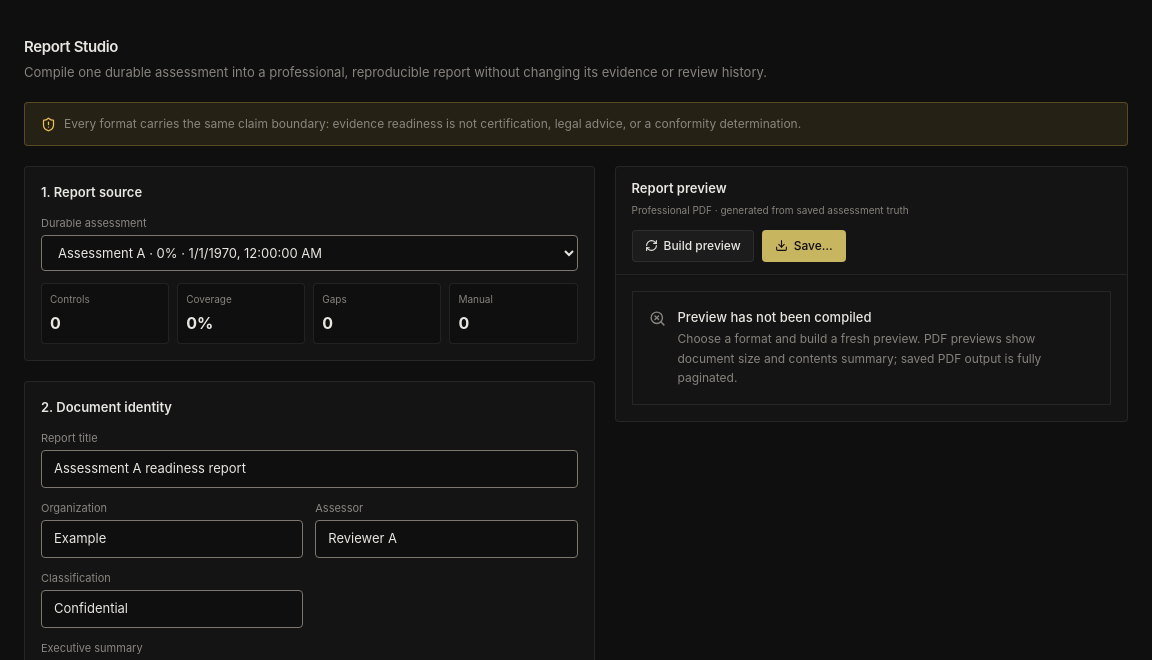
Test: a pending preview cannot publish after changing format
The image size is (1152, 660).
Click the button "Build preview" at (693, 246), box [632,230,754,262]
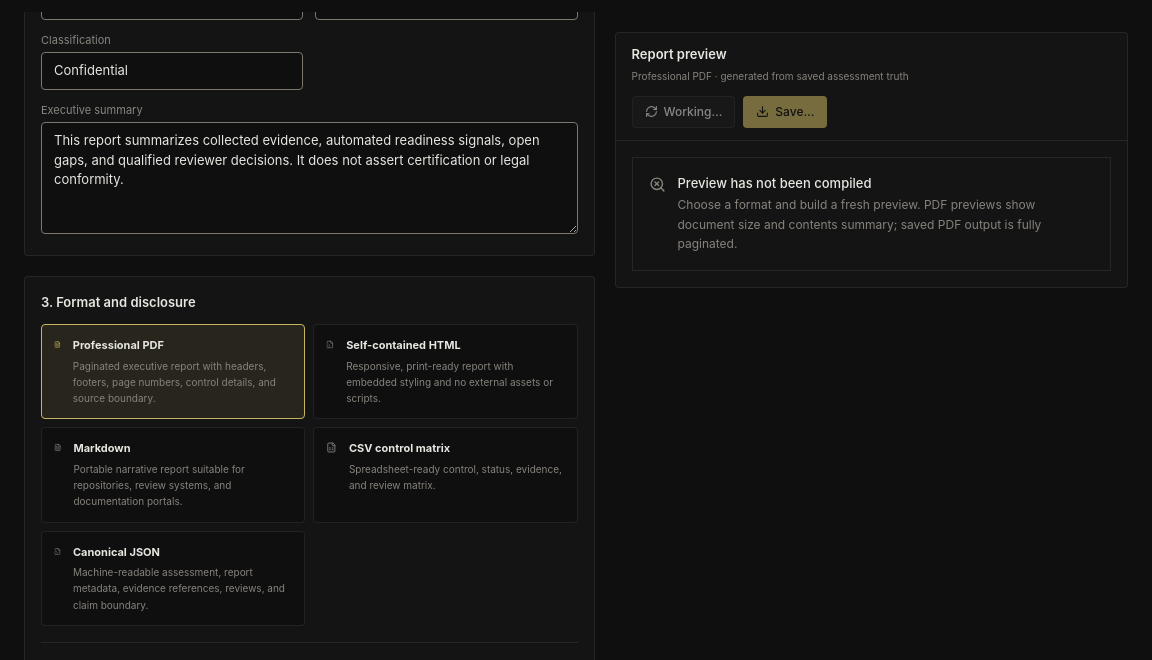
Click the button "Self-contained HTML" at (445, 372), box [313,324,578,419]
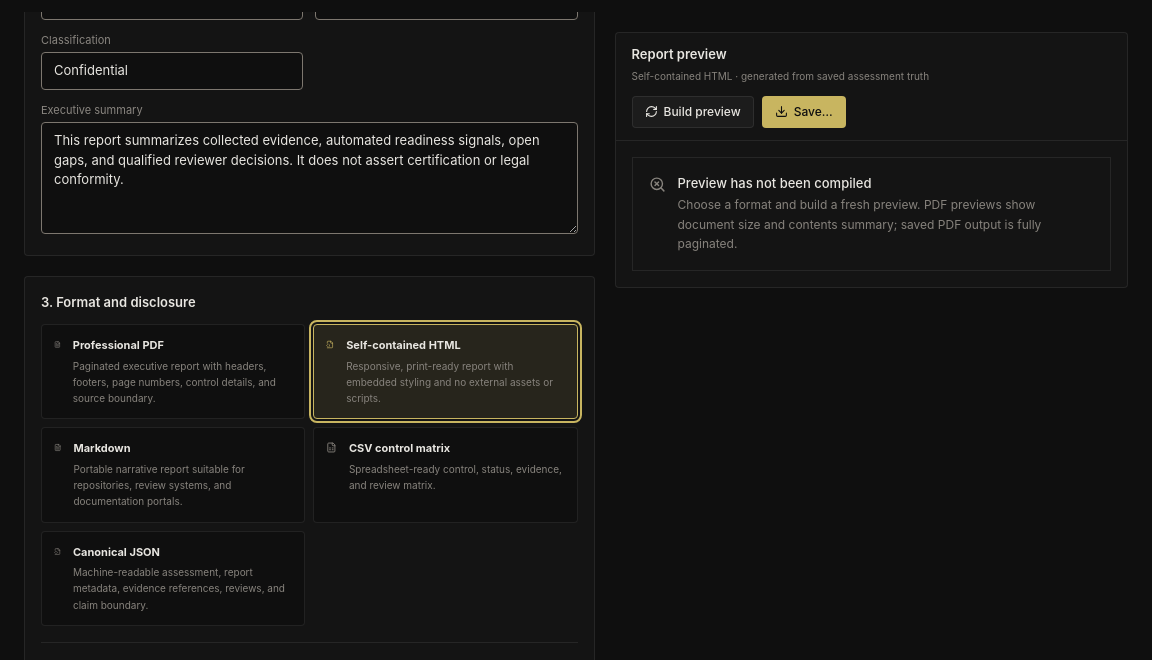
Expected: the text "Preview has not been compiled" is shown, [678,174,871,190]
Expected: the button "Build preview" is enabled, [632,96,754,128]
